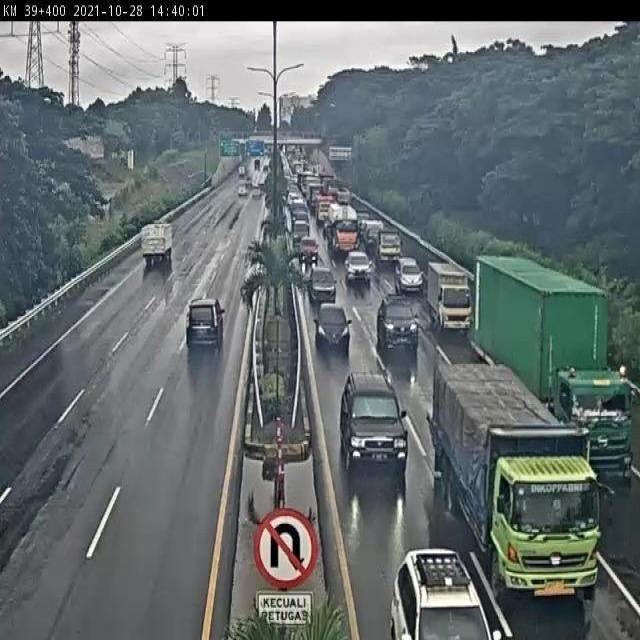big truck: (432, 364, 597, 603), (475, 257, 634, 480), (326, 202, 361, 255)
car: (340, 368, 409, 465), (376, 293, 419, 348), (186, 300, 224, 349), (314, 303, 352, 348), (307, 264, 339, 301), (393, 255, 424, 292), (373, 227, 403, 261), (345, 249, 371, 280), (298, 236, 320, 263)
mid truck: (141, 221, 174, 264)
small truck: (428, 260, 475, 335)
